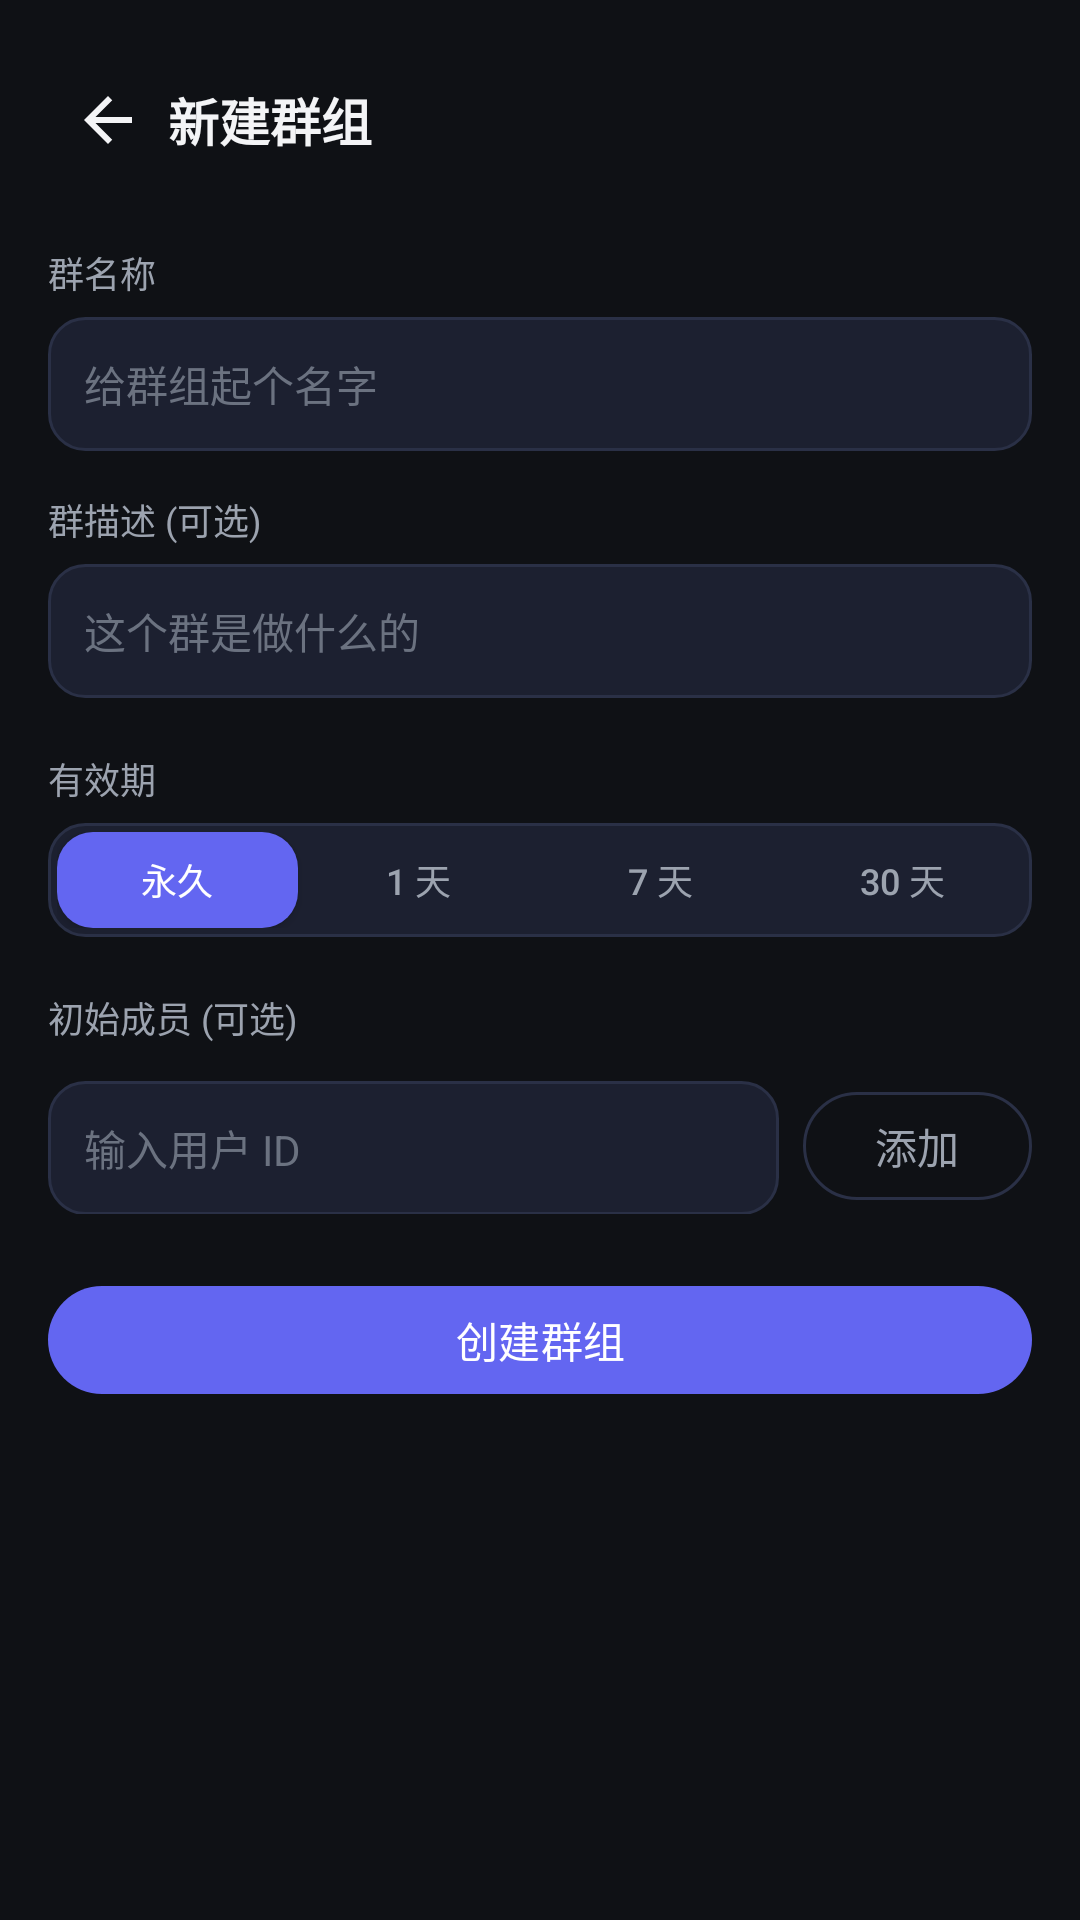

Named icons in this screenshot (1080w x 1920h) and their centers, (x,y):
返回: (108,120)
